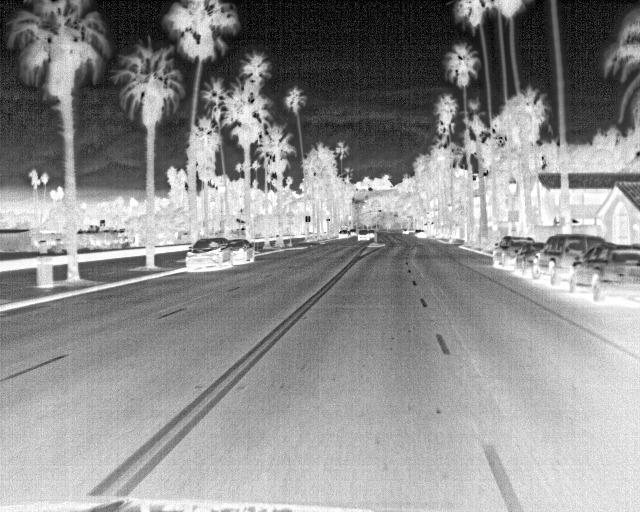car: (572, 239, 637, 305), (531, 234, 605, 288), (185, 238, 233, 272), (493, 233, 532, 268), (511, 242, 541, 273), (228, 238, 252, 264), (355, 228, 371, 241), (336, 228, 352, 241), (414, 227, 425, 238), (400, 226, 411, 235)
